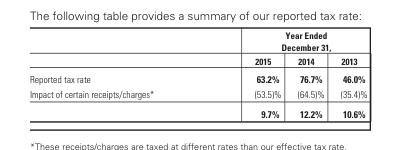table: (28, 29, 366, 119)
table column: (28, 29, 203, 119), (203, 29, 288, 119), (288, 29, 331, 119), (331, 29, 366, 119)
table column header: (28, 29, 366, 69)
table row: (28, 29, 366, 53), (28, 69, 366, 86), (28, 86, 366, 103), (28, 53, 366, 69), (28, 103, 366, 119)
table spanning cell: (203, 29, 366, 53)
